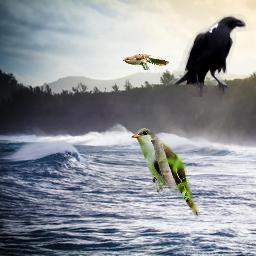Crow: (171, 14, 247, 100)
Cuckoo: (129, 128, 202, 216), (122, 54, 169, 70)
